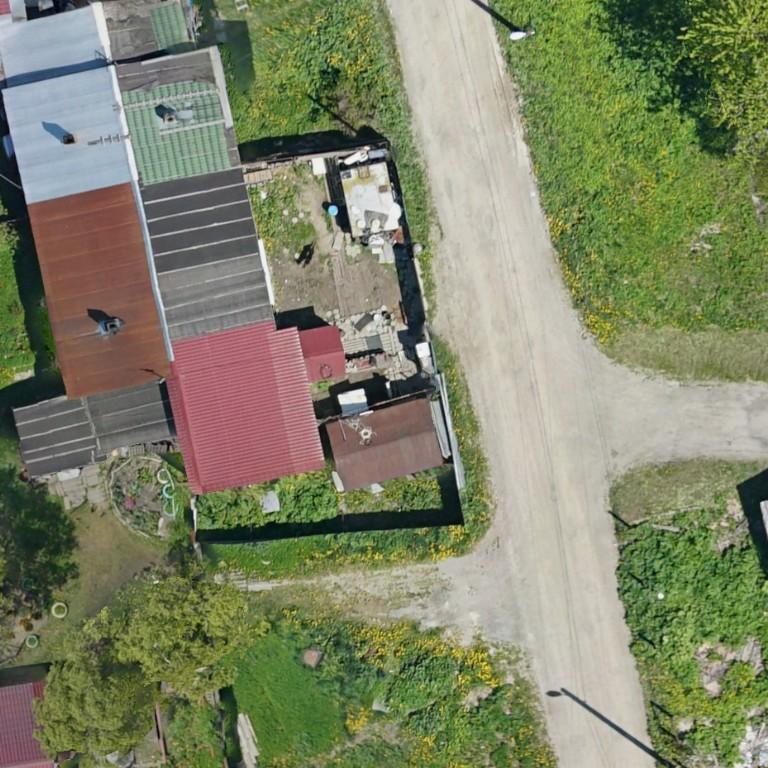hogweed: (616, 527, 767, 680), (197, 481, 337, 530)
